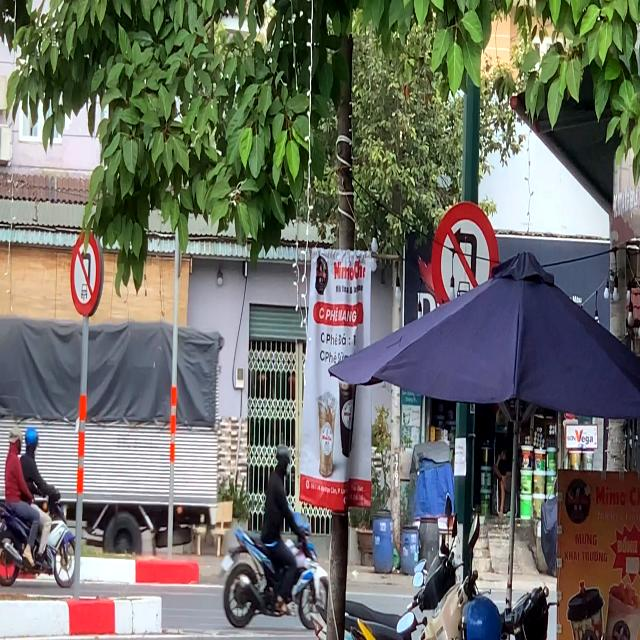P.103c: (70, 226, 103, 316)
